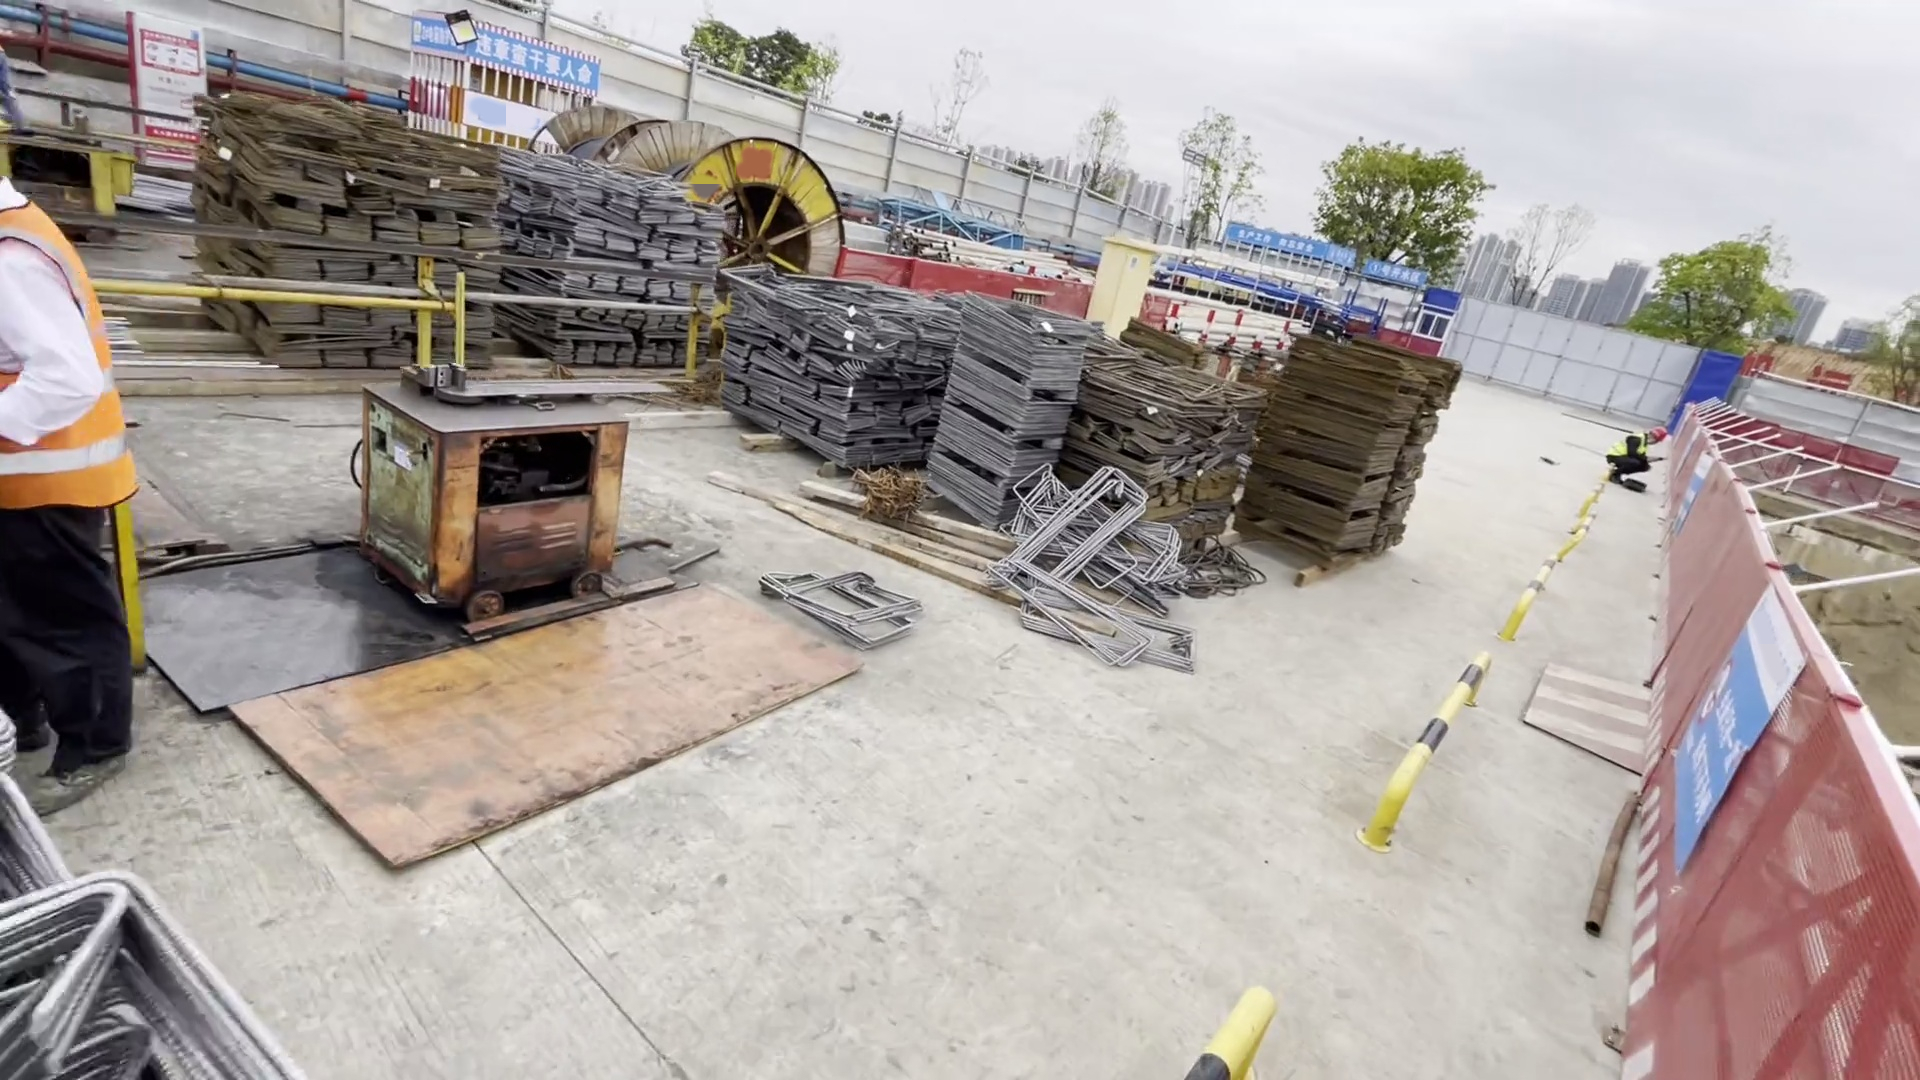ebox: (1087, 233, 1158, 336)
fence: (1640, 403, 1920, 1066), (817, 238, 1089, 314)
helmet: (1652, 427, 1665, 438)
person: (1, 138, 155, 826), (1600, 420, 1664, 492)
slogan: (1235, 224, 1318, 256)
vest: (1, 200, 138, 494), (1606, 432, 1646, 461)
